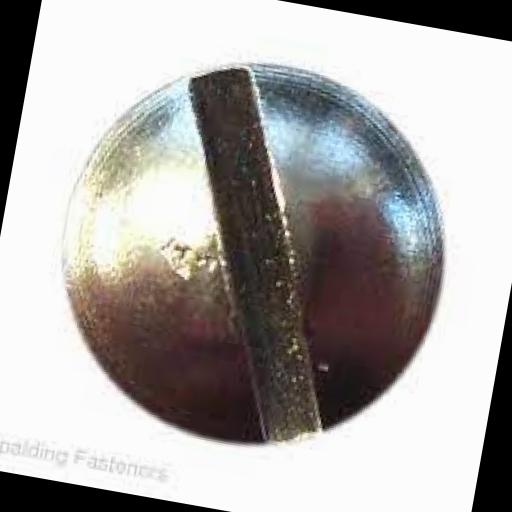Slotted: (32, 36, 472, 475)
